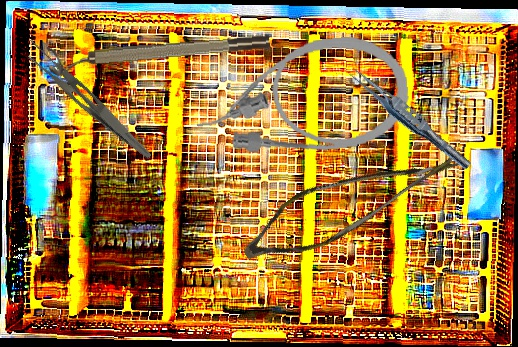Cannula: (189, 31, 414, 163)
Dressing Forceps: (16, 37, 164, 161)
Fixation Ring: (47, 31, 271, 77)
Micro Scissor: (234, 102, 469, 297)
Tissue Forceps: (343, 63, 476, 173)
